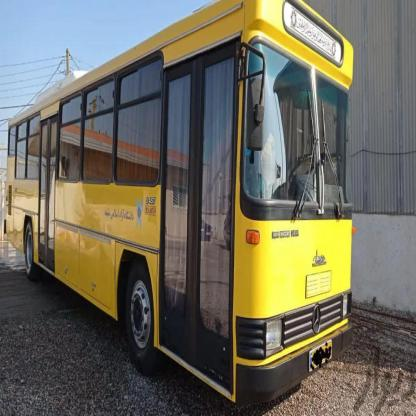Bus: (0, 0, 356, 416)
